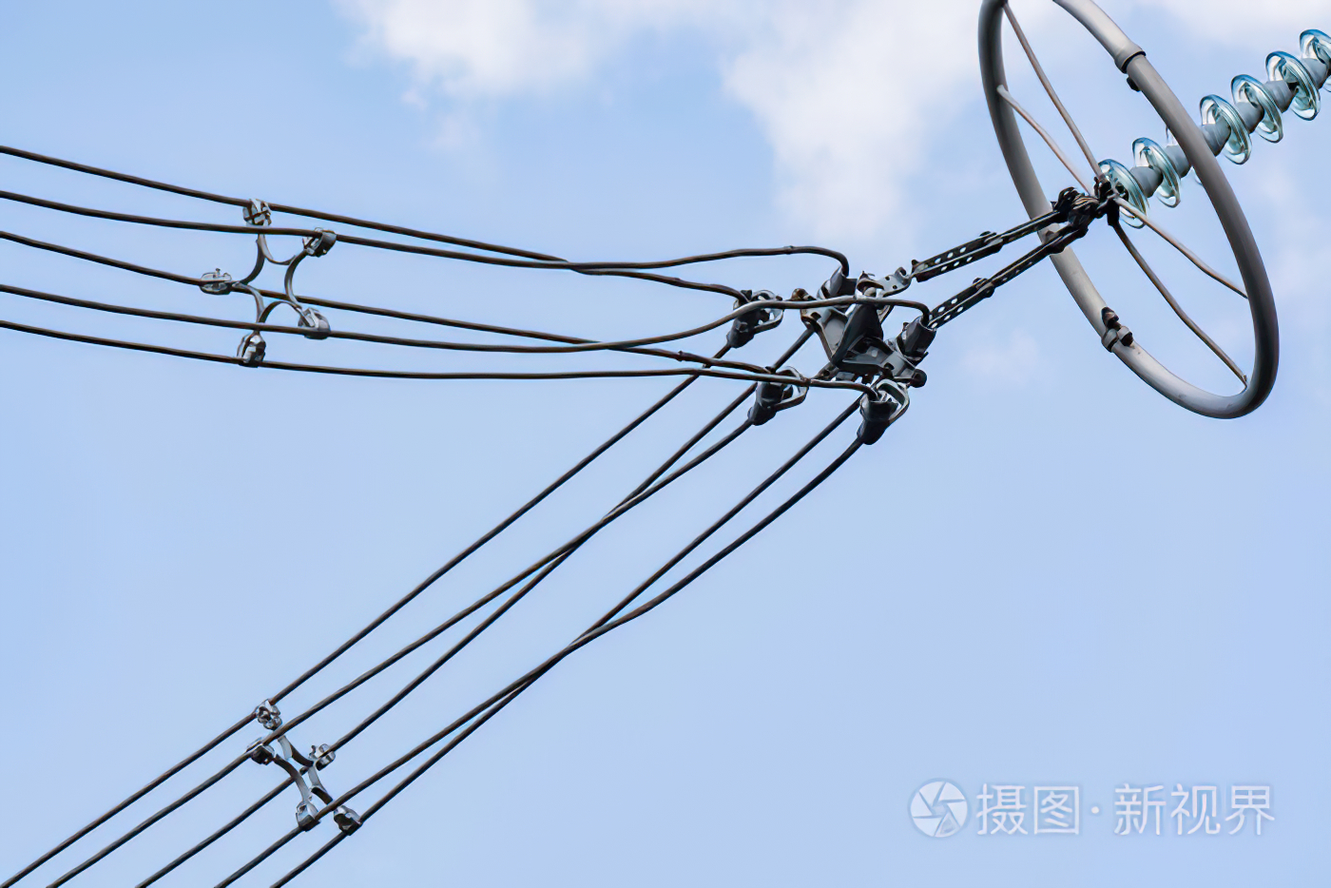insulator: (1097, 29, 1331, 219)
